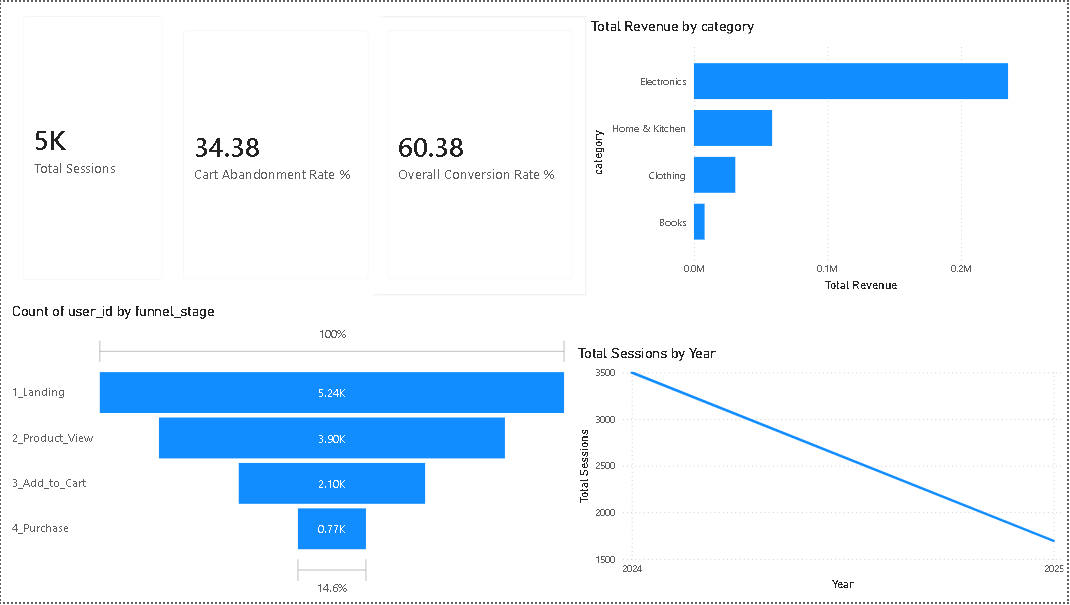

The dashboard page shown, as its layout file describes it:
{"tool":"powerbi","page":{"name":"Page 1","canvas":[1280,720],"ordinal":0},"visuals":[{"type":"cardVisual","fields":{"Data":["powerbi_ecommerce_data.Total Sessions"]},"box":[9.5,0,201.7,351.1],"z":0},{"type":"cardVisual","fields":{"Data":["powerbi_ecommerce_data.Overall Conversion Rate %"]},"box":[447.2,17.8,256.2,333.3],"z":1000},{"type":"cardVisual","fields":{"Data":["powerbi_ecommerce_data.Cart Abandonment Rate %"]},"box":[201.7,17.8,257.4,333.3],"z":2000},{"type":"funnel","fields":{"Category":["powerbi_ecommerce_data.funnel_stage","powerbi_ecommerce_data.user_id"],"Y":["CountNonNull(powerbi_ecommerce_data.user_id)"]},"box":[9.2,361.6,677.3,359],"z":3000},{"type":"clusteredBarChart","fields":{"Category":["powerbi_ecommerce_data.category"],"Y":["powerbi_ecommerce_data.Total Revenue"]},"box":[703,18,548,333],"z":4000},{"type":"lineChart","fields":{"Category":["powerbi_ecommerce_data.month_year.Variation.Date Hierarchy.Year","powerbi_ecommerce_data.month_year.Variation.Date Hierarchy.Quarter","powerbi_ecommerce_data.month_year.Variation.Date Hierarchy.Month","powerbi_ecommerce_data.month_year.Variation.Date Hierarchy.Day"],"Y":["powerbi_ecommerce_data.Total Sessions"]},"box":[686.5,411.4,593.5,300],"z":4001}]}

Visuals, with their boxes in screenshot pixels (x1, y1, x2, y2), scaled from the page's 1280x720 canvas onto the 1070x605 screenshot:
cardVisual - powerbi_ecommerce_data.Total Sessions: x1=8 y1=0 x2=177 y2=295
cardVisual - powerbi_ecommerce_data.Overall Conversion Rate %: x1=374 y1=15 x2=588 y2=295
cardVisual - powerbi_ecommerce_data.Cart Abandonment Rate %: x1=169 y1=15 x2=384 y2=295
funnel - powerbi_ecommerce_data.funnel_stage x powerbi_ecommerce_data.user_id: x1=8 y1=304 x2=574 y2=604
clusteredBarChart - powerbi_ecommerce_data.category x powerbi_ecommerce_data.Total Revenue: x1=588 y1=15 x2=1046 y2=295
lineChart - powerbi_ecommerce_data.month_year.Variation.Date Hierarchy.Year x powerbi_ecommerce_data.month_year.Variation.Date Hierarchy.Quarter: x1=574 y1=346 x2=1069 y2=598
